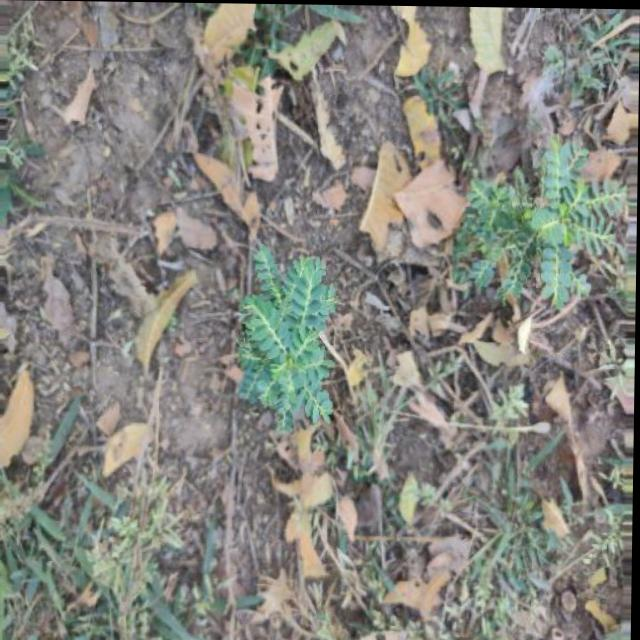weed: (430, 124, 630, 322), (221, 238, 356, 447)
